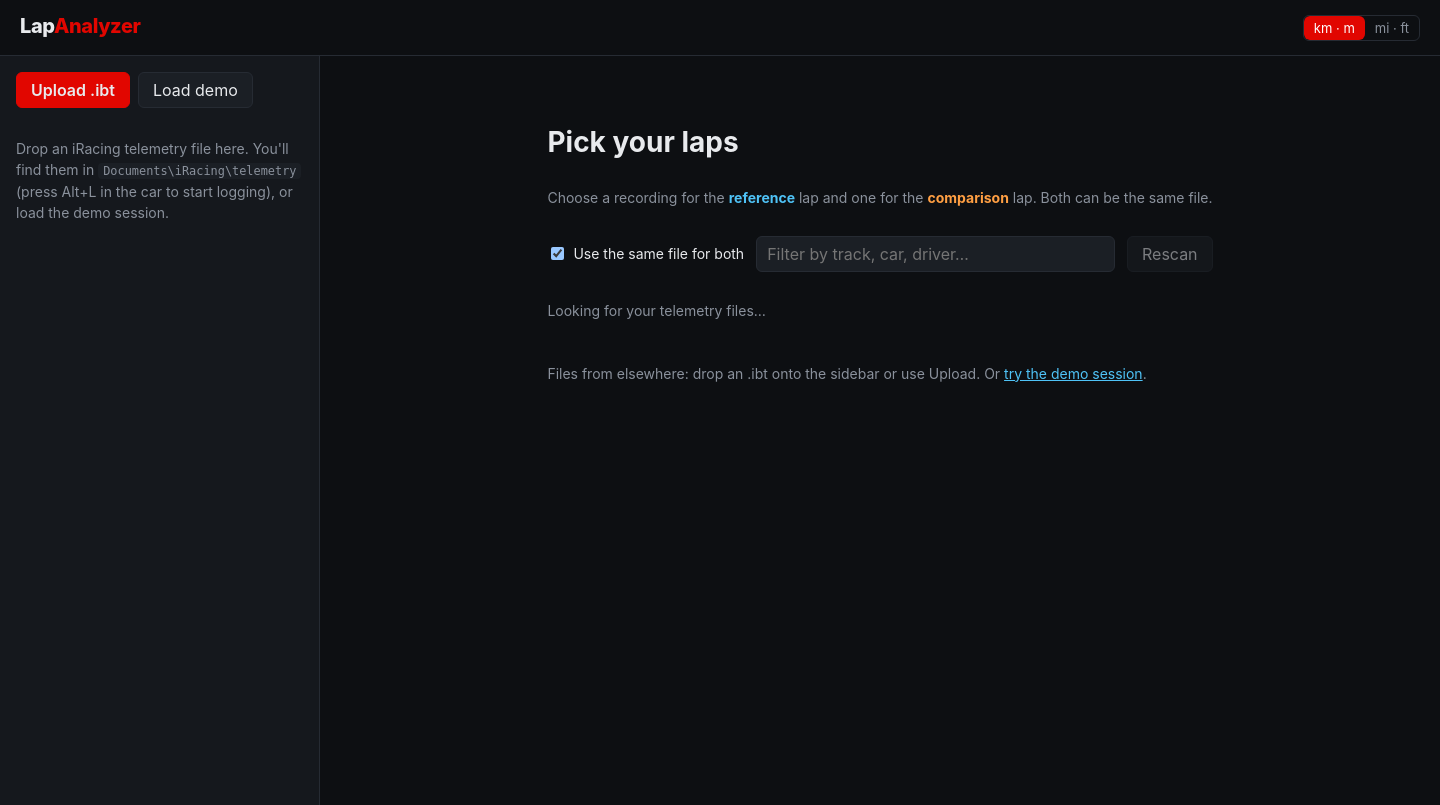
zooms to a corner when a corner row is clicked, and hovers
Click the button "Load demo". click: (195, 90)
box: left=138, top=72, right=253, bottom=108
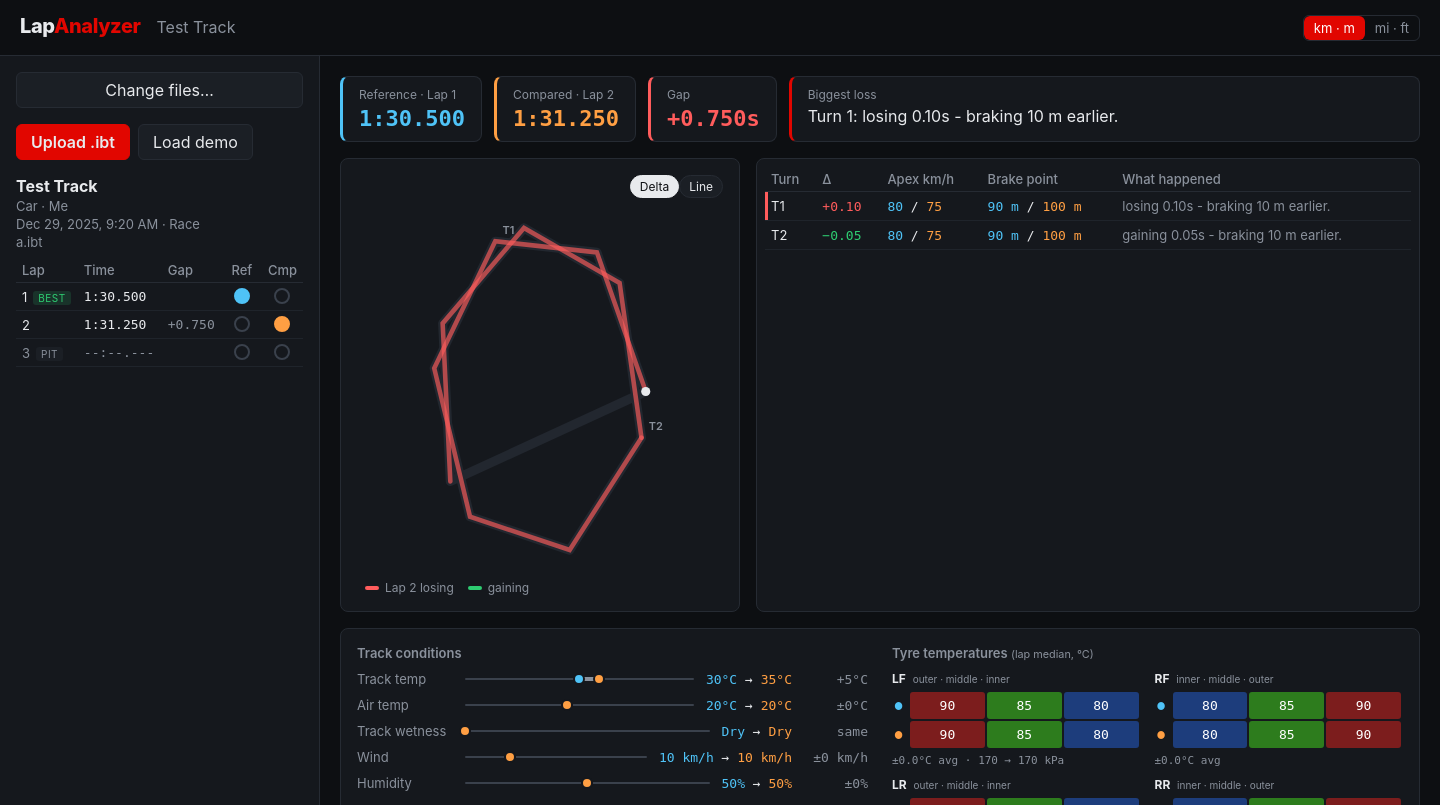
Hover over the row titled "Click to zoom" at (1088, 206), box left=765, top=192, right=1411, bottom=221
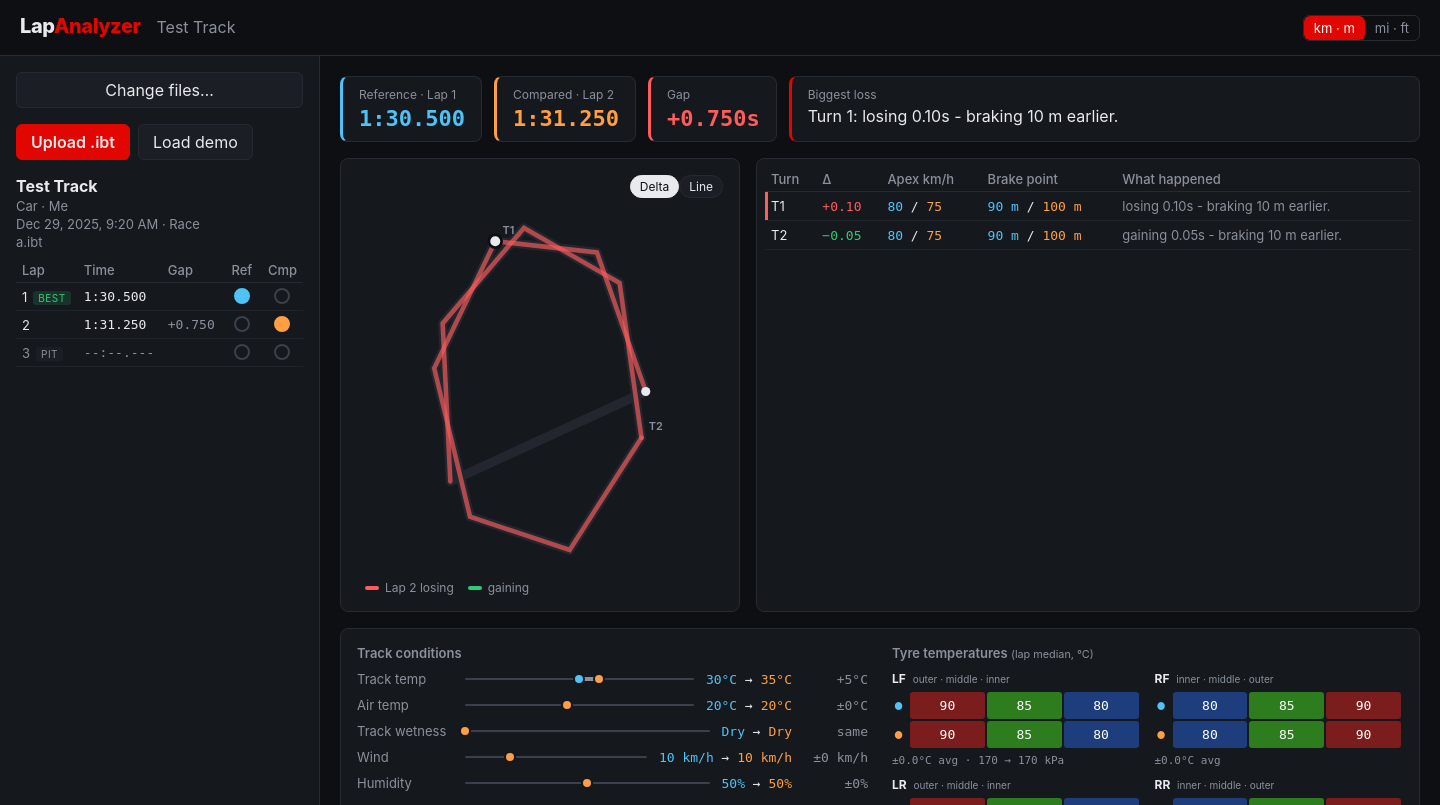
Click the row titled "Click to zoom". click: (1088, 206)
box: left=765, top=192, right=1411, bottom=221
(page scrolled)
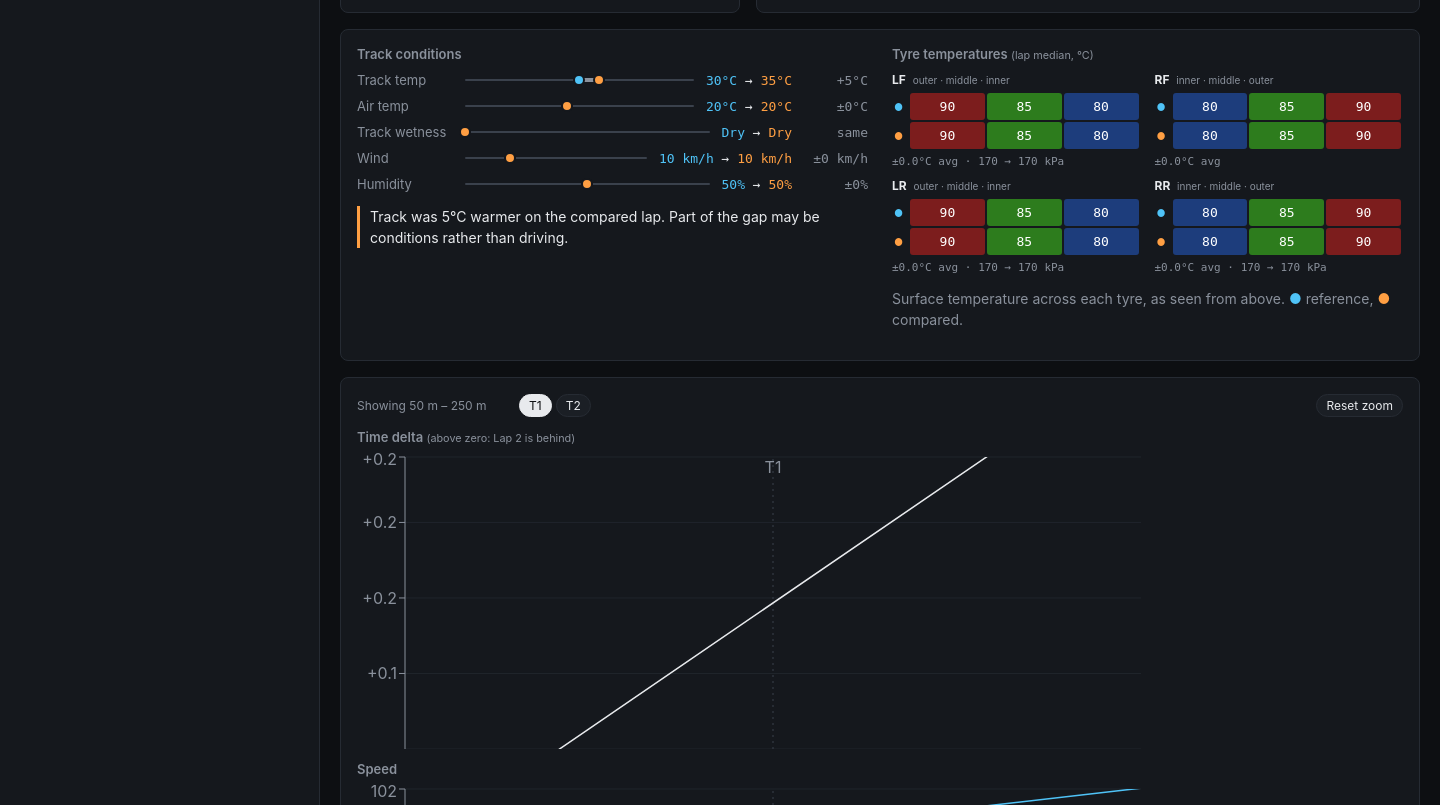
Now the text "Showing 50 m – 250 m" is shown, box left=357, top=396, right=507, bottom=414
